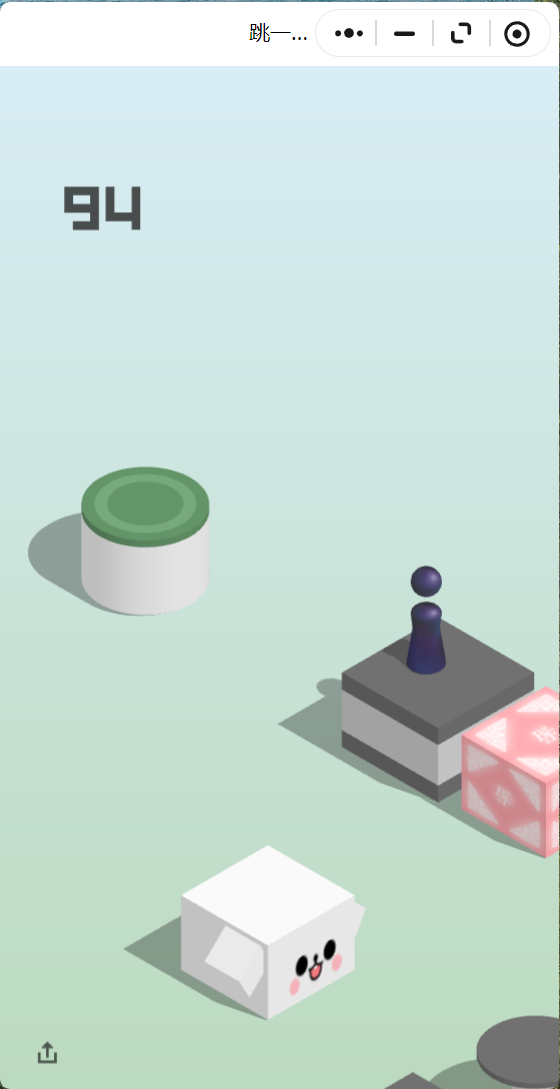piece: (411, 566, 442, 669)
target: (81, 467, 210, 539)
